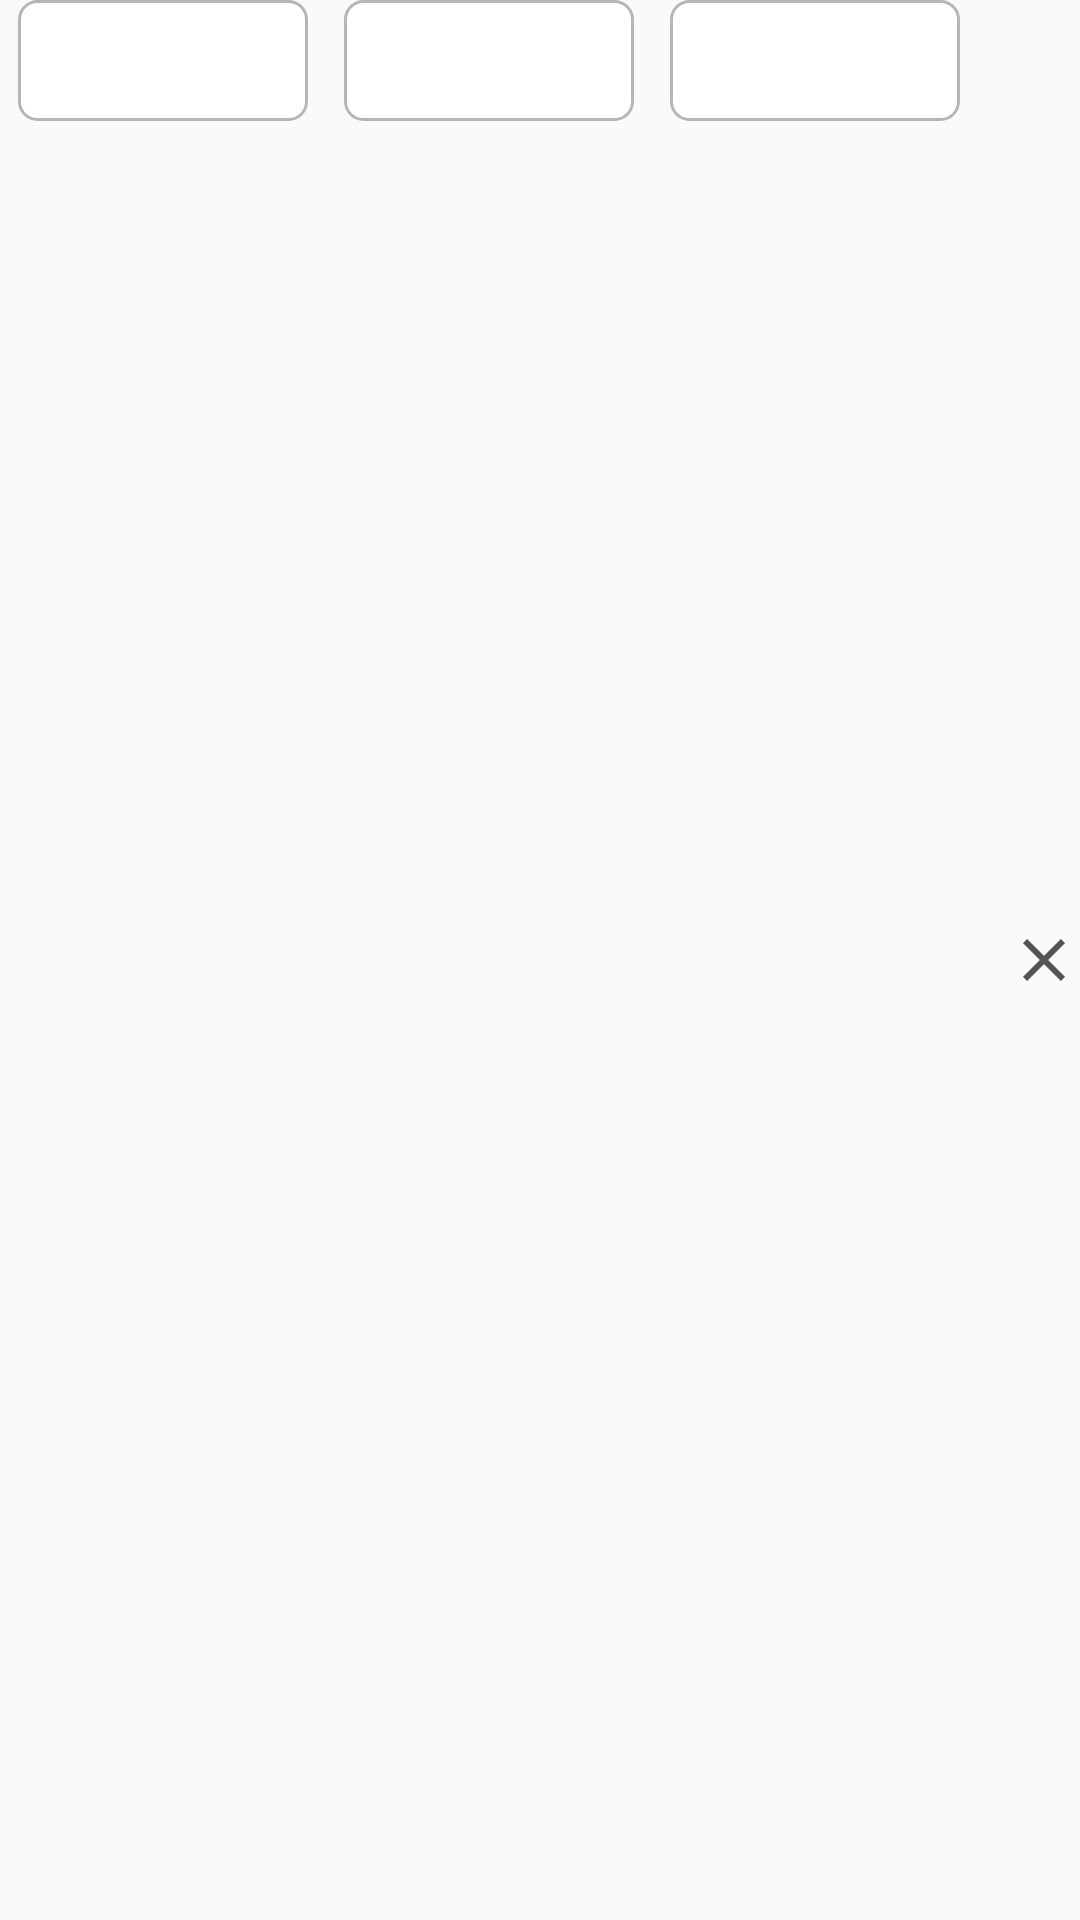

Point at icon controls on the screen. Image size 1080w x 1920h, points as point (x, y).
close: point (1044, 960)
